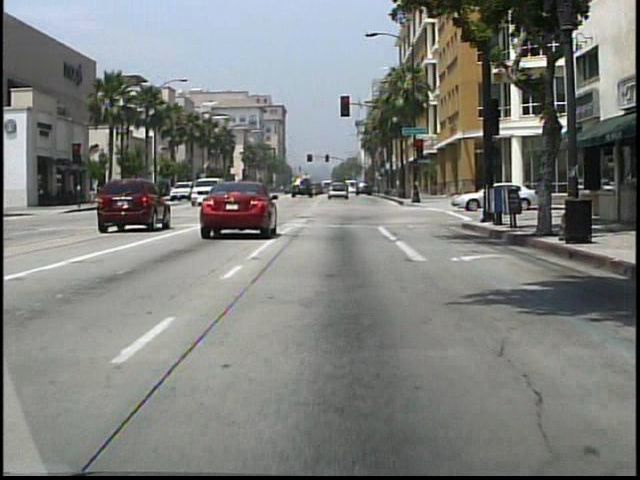person: (628, 170, 638, 228)
